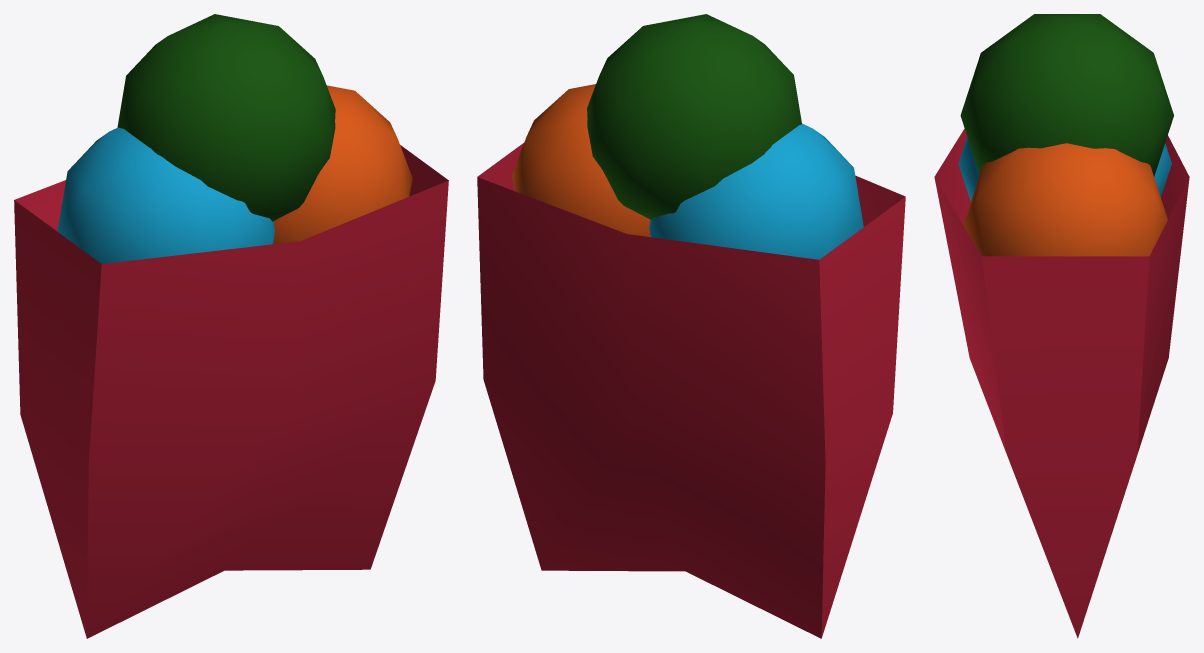
The model's file is Packegefood_prop.FBX.
The picture shows the model from 3 angles, left to right: view 1: azimuth 30°, elevation 25°; view 2: azimuth 150°, elevation 25°; view 3: azimuth 270°, elevation 25°; orthographic projection. The views are drawn at different scales.
Parts seen in each view (by area): view 1: Box004; view 2: Box004; view 3: Box004.
Part boxes in pixels (left/top/right/bottom): Box004: left=14, top=14, right=448, bottom=638; Box004: left=477, top=14, right=905, bottom=638; Box004: left=934, top=14, right=1189, bottom=638.
Bounding box in the file's own units: 1.62 × 2.63 × 1.1.
